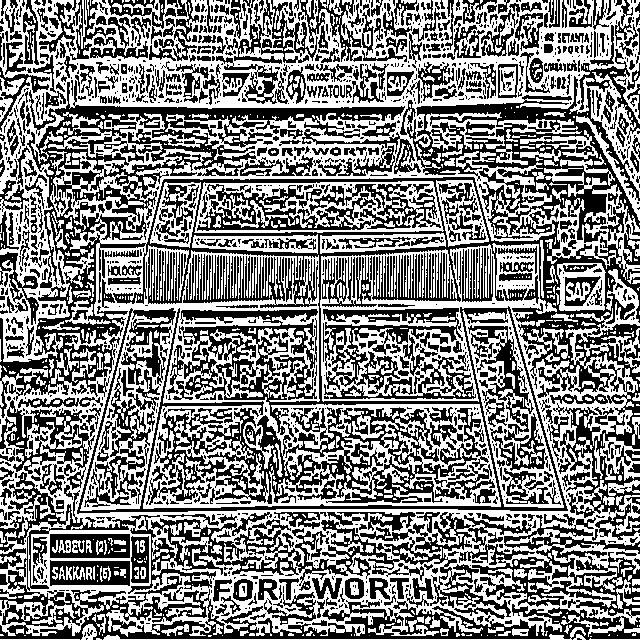left side: (434, 177, 566, 509), (77, 180, 203, 511)
player: (248, 398, 287, 504), (392, 98, 423, 173)
